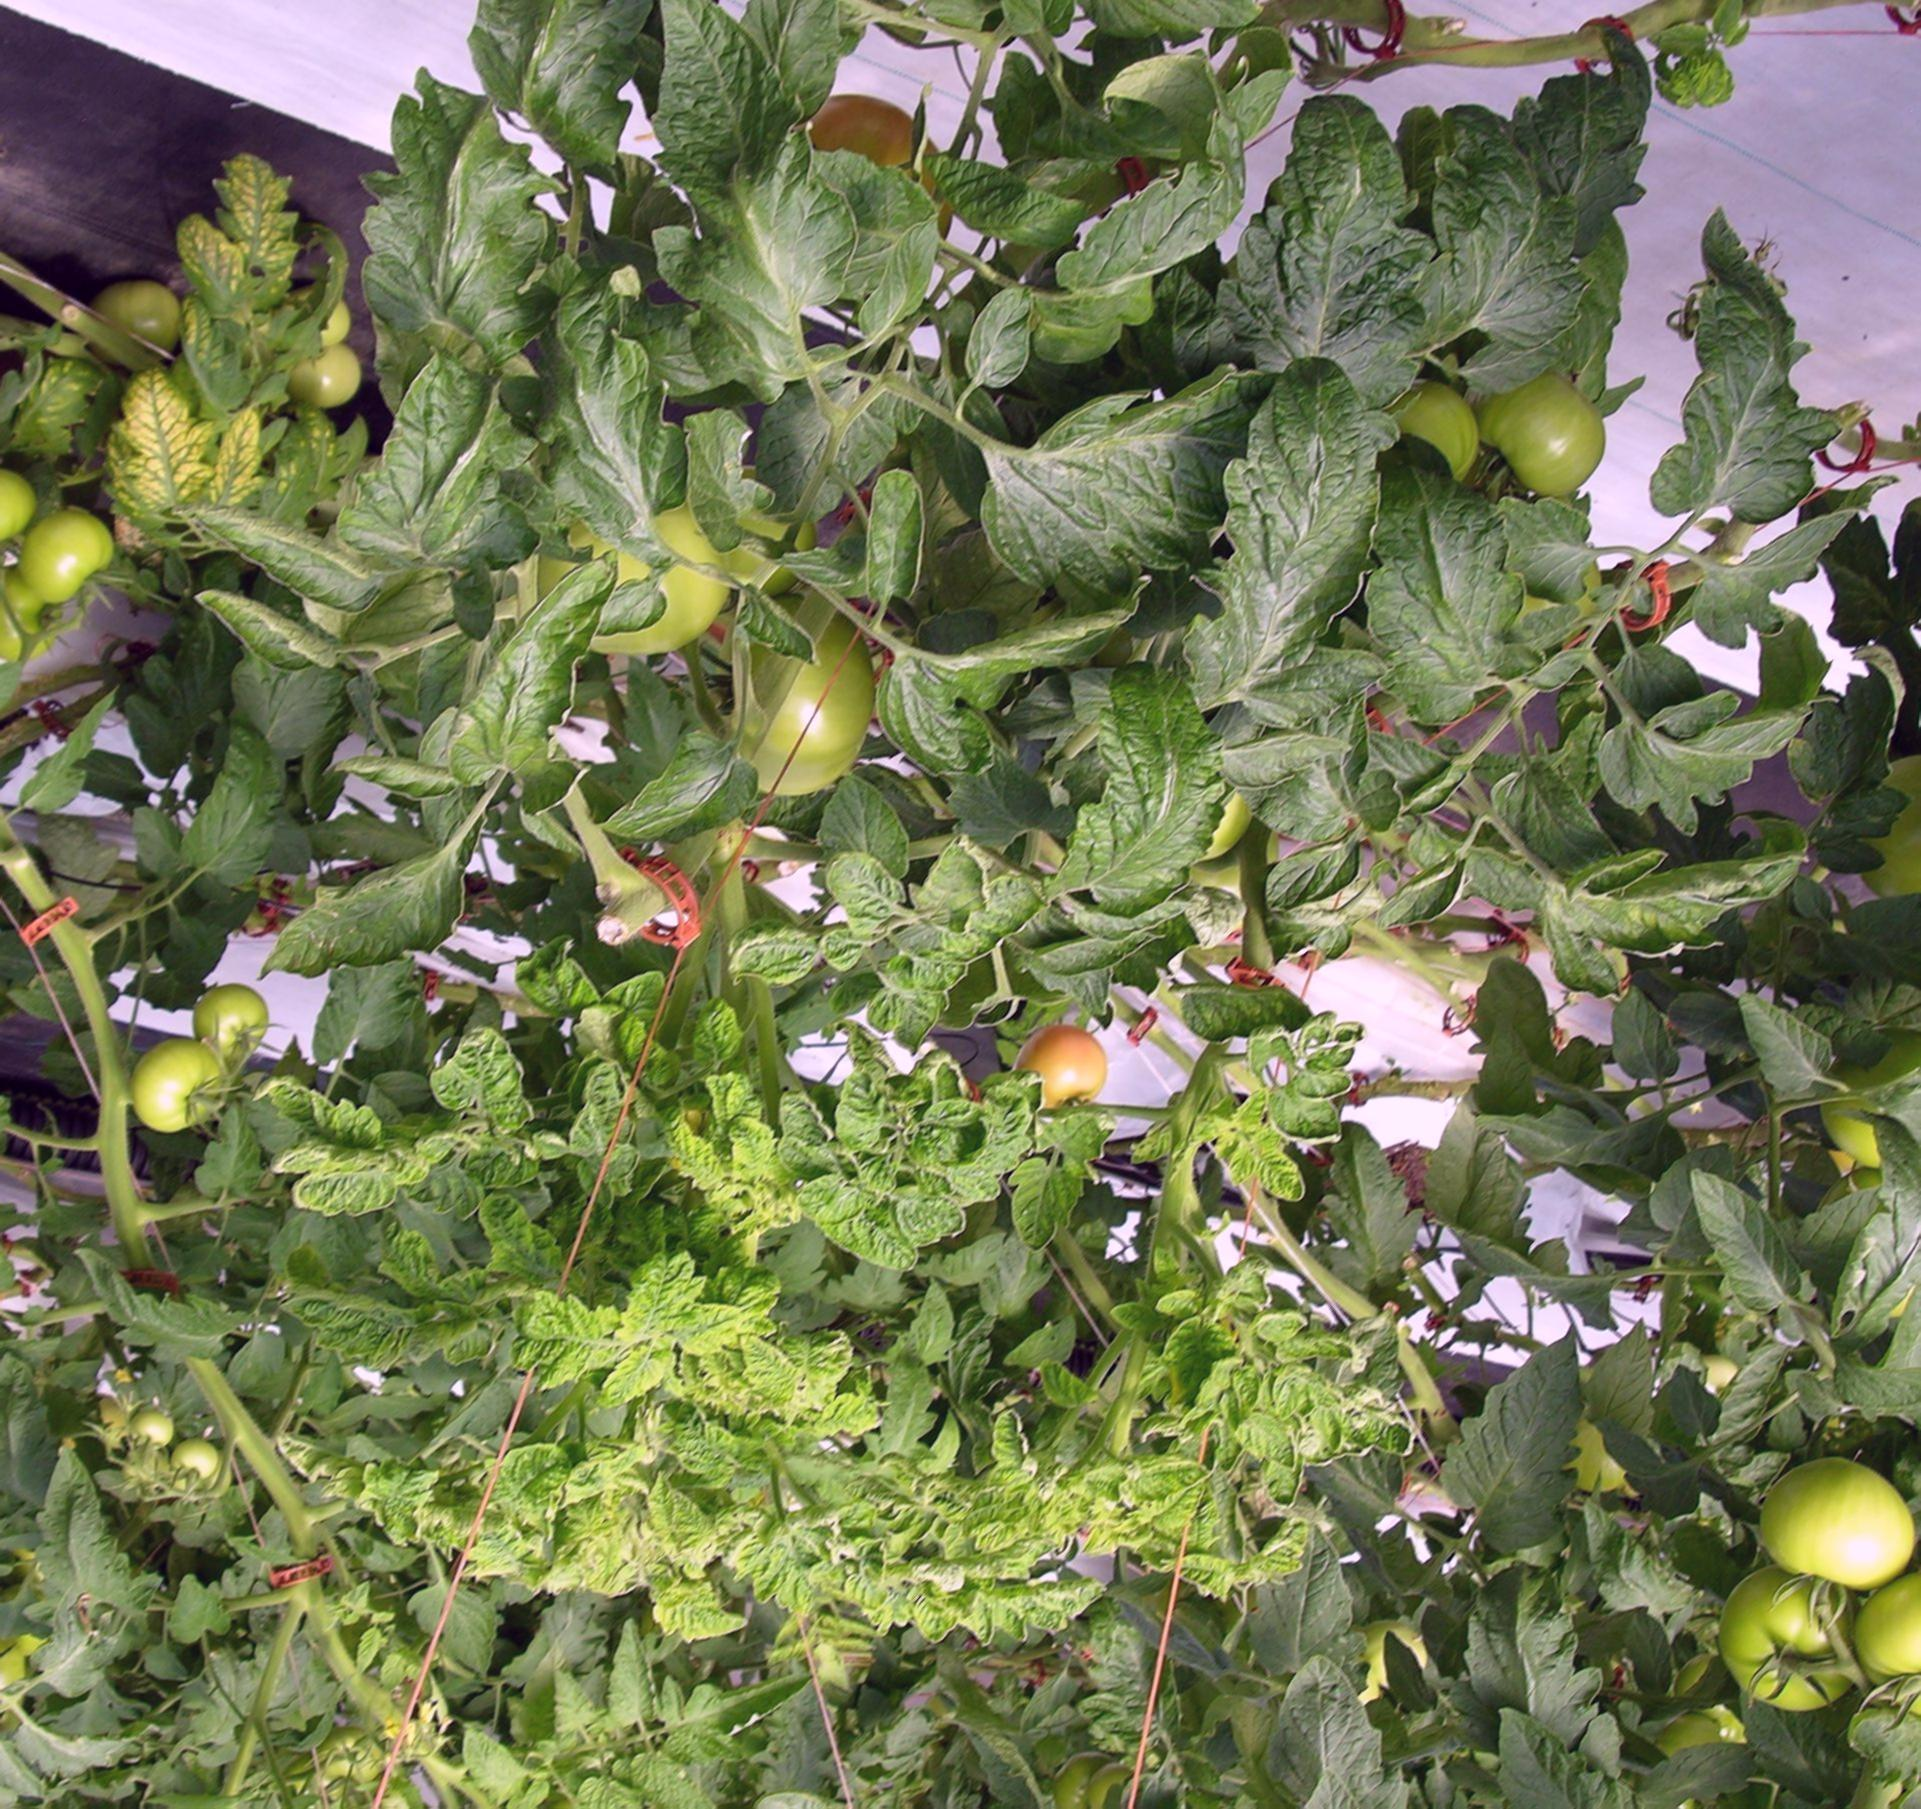Tomato leaf yellow virus: (1205, 347, 1404, 676), (1029, 648, 1234, 917), (172, 143, 334, 412), (259, 1054, 441, 1223), (105, 373, 216, 538), (406, 1016, 553, 1134), (732, 1324, 874, 1429), (484, 1284, 625, 1384), (727, 1086, 804, 1249), (1001, 1144, 1092, 1268), (638, 1459, 737, 1564), (1156, 1313, 1242, 1415), (1225, 1132, 1324, 1218), (648, 1081, 723, 1194), (975, 1400, 1047, 1503), (626, 1247, 701, 1341), (1233, 1409, 1305, 1471)
